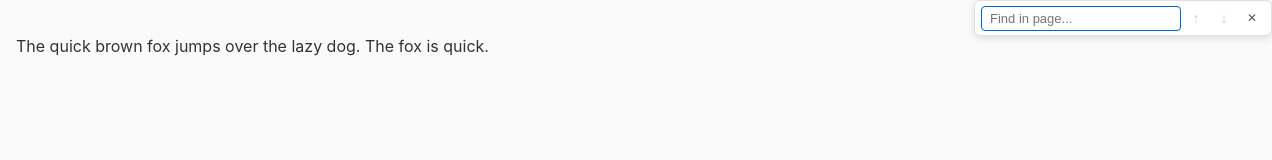
Test: FindBar › navigates to next match on Next button click
Type "fox" into the field with placeholder "Find in page..." at (1081, 18), box [981,6,1181,30]
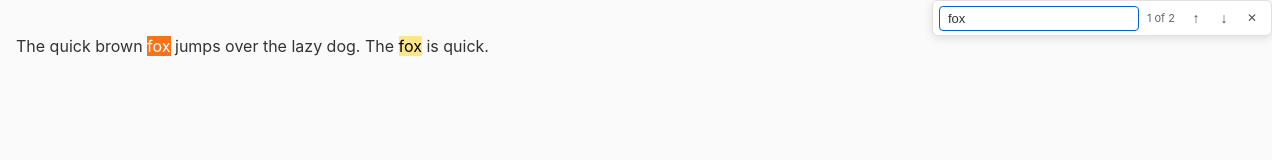
Check: the text "1 of 2" is shown, box [1147,11,1175,25]
Click Next
Click the button named "Next match" at (1224, 18), box [1211,5,1237,31]
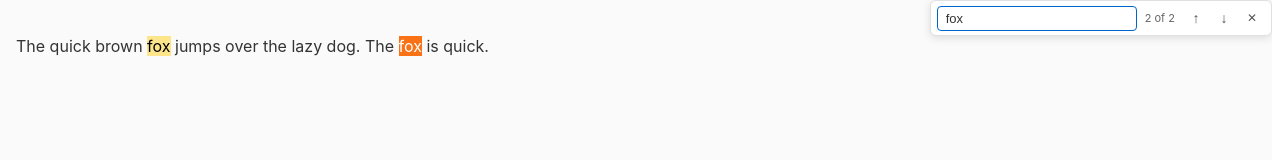
Check: the text "2 of 2" is shown, box [1145,11,1175,25]
